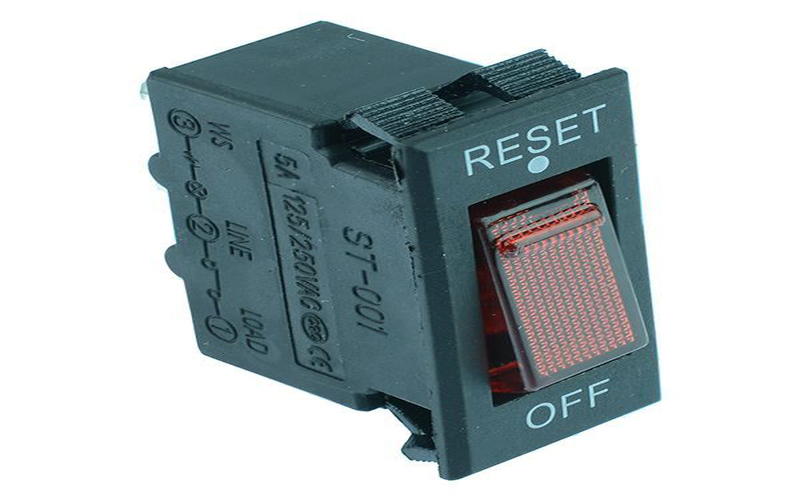Switches: (121, 15, 666, 486)
